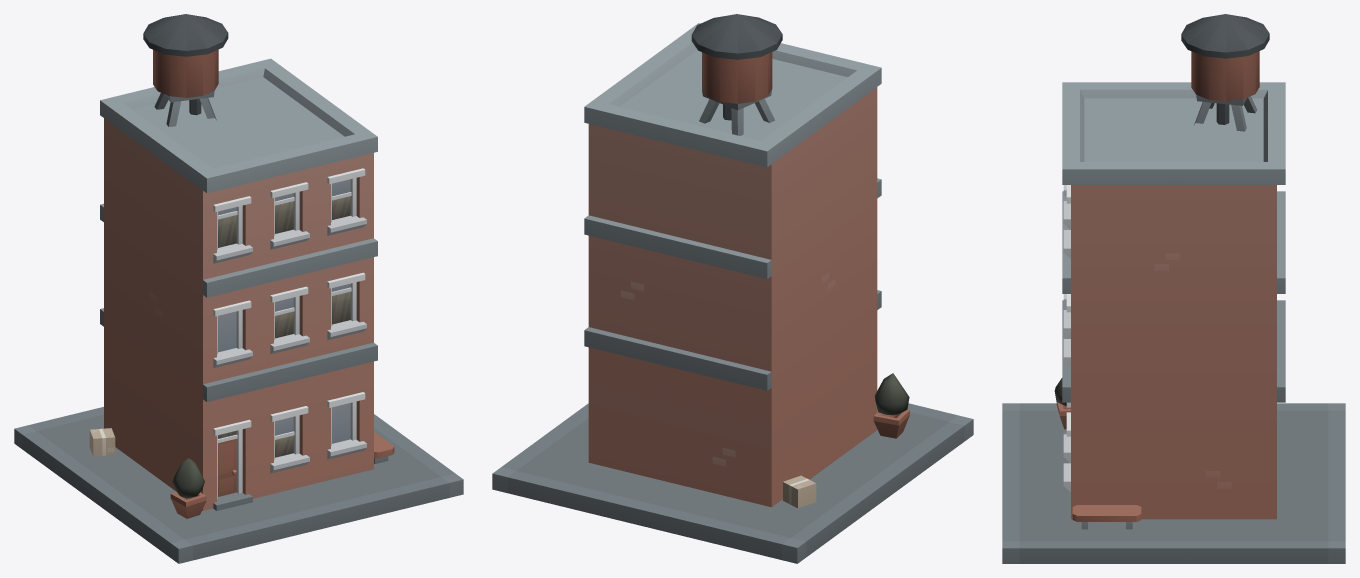
The model's file is nyc-brownstone-d.glb.
3 views of the same model, side by side, from view 1: azimuth 30°, elevation 25°; view 2: azimuth 150°, elevation 25°; view 3: azimuth 270°, elevation 25° (orthographic). The views are drawn at different scales.
Parts seen in each view (by area): view 1: building_C; view 2: building_C; view 3: building_C.
Boxes of the visible parts, left/top/right/bottom form: building_C: left=14, top=14, right=463, bottom=563; building_C: left=492, top=14, right=973, bottom=563; building_C: left=1002, top=14, right=1345, bottom=563.
Size of the model in its own units: 2 by 2.98 by 2.
Materials: 2 (2 with a texture image).
